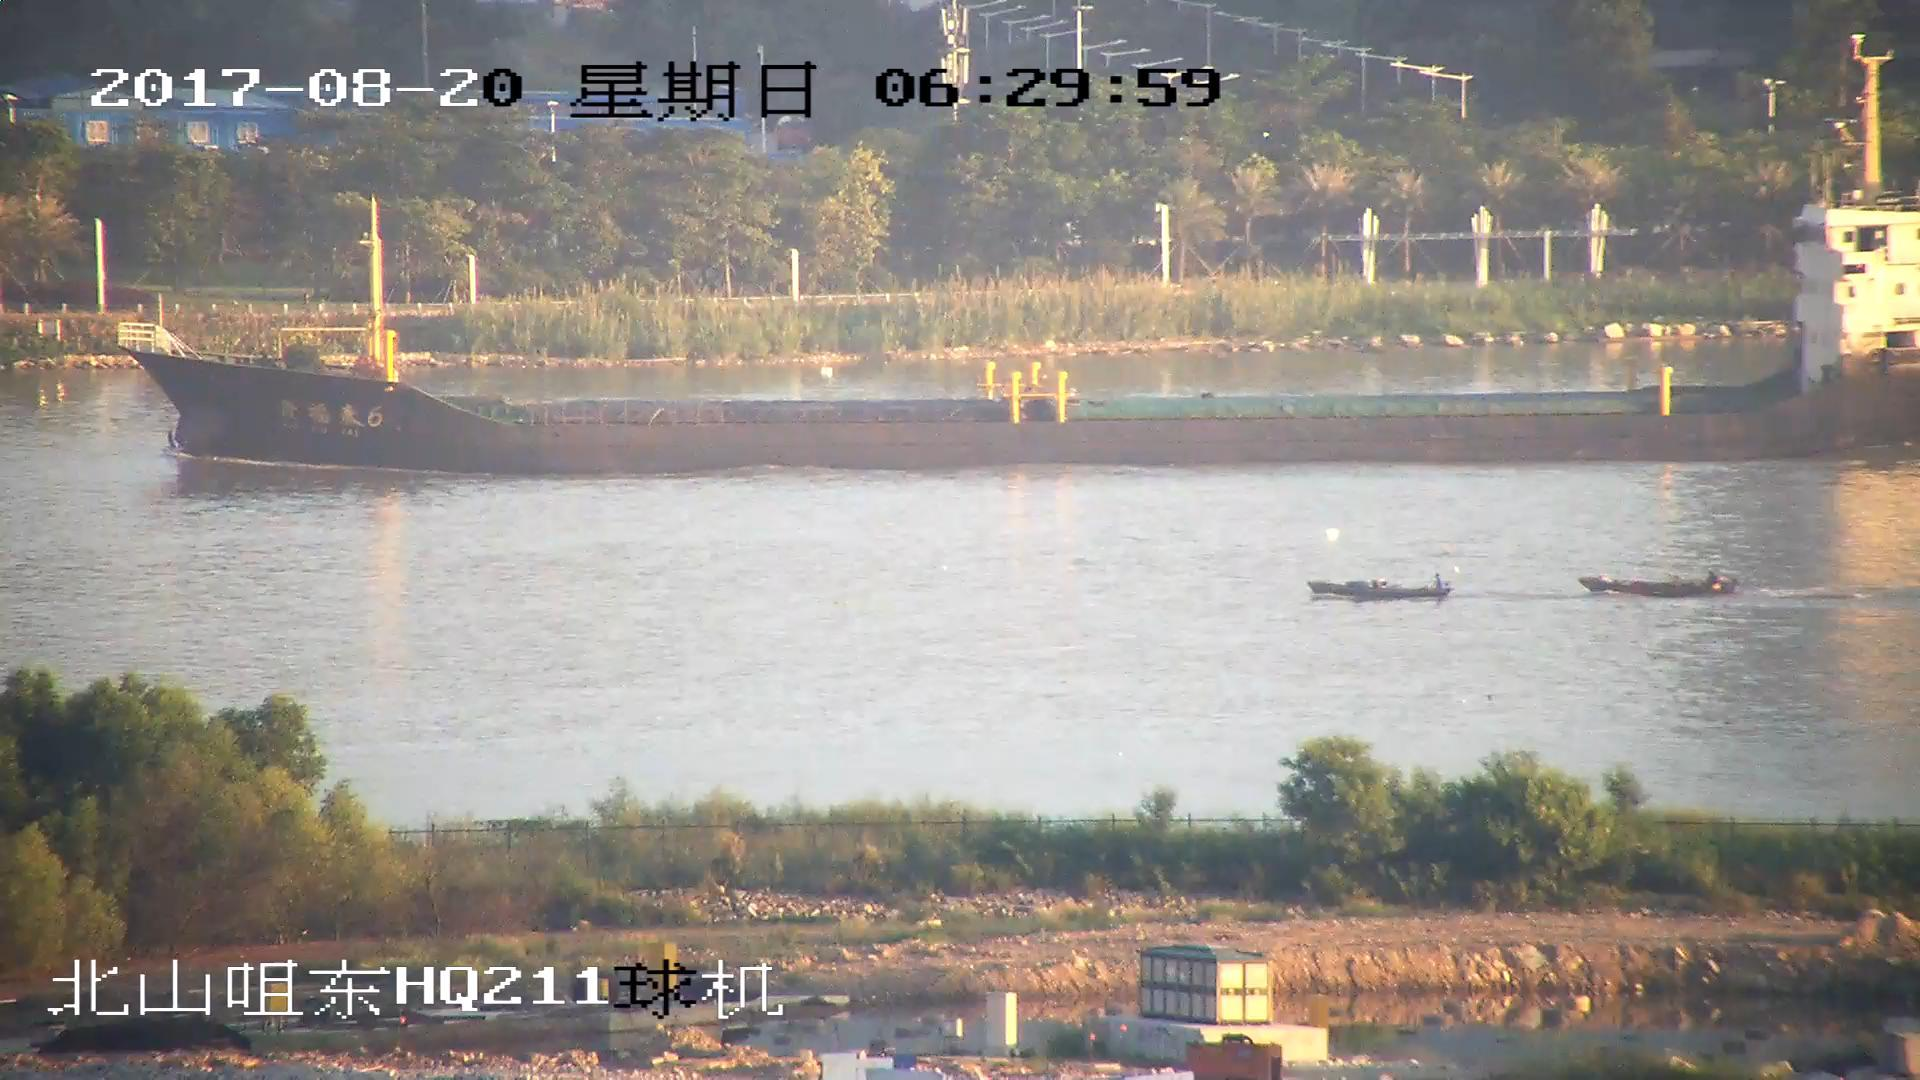Ship: (117, 119, 1920, 481), (1586, 571, 1734, 603), (1309, 571, 1456, 603)
